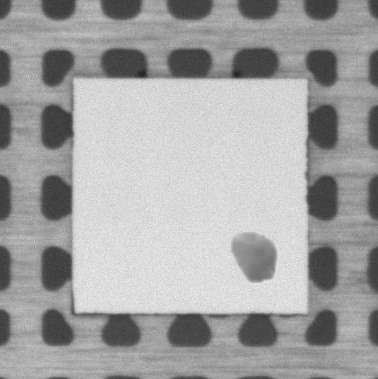DIE_INK: (230, 232, 278, 285)
